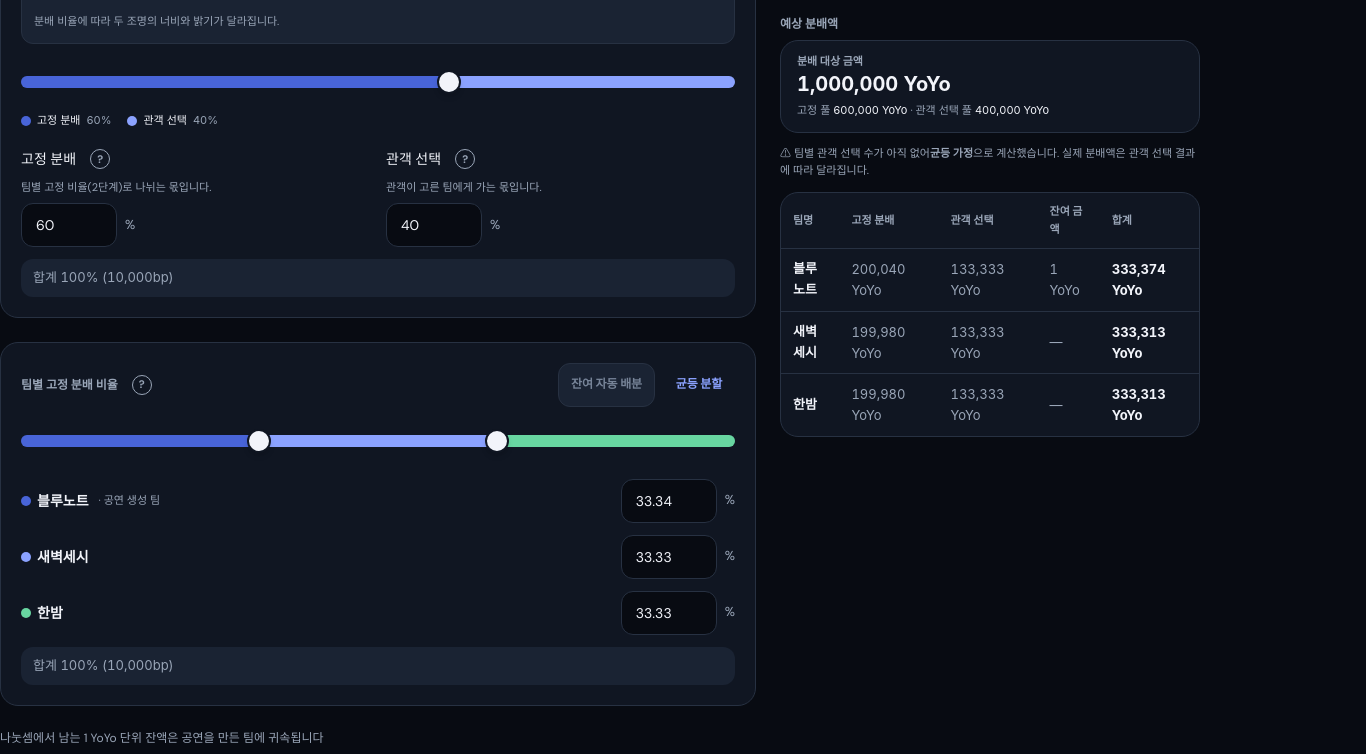
Test: P-05 도움말 모달 › 팀별 고정 분배 비율 설명 버튼이 예시 모달을 열고 Esc 로 닫으면 버튼으로 포커스가 돌아온다
The width and height of the screenshot is (1366, 754).
(page scrolled)
Click the button named "팀별 고정 분배 비율 설명" at coordinates (142, 385), box [120,363,164,407]
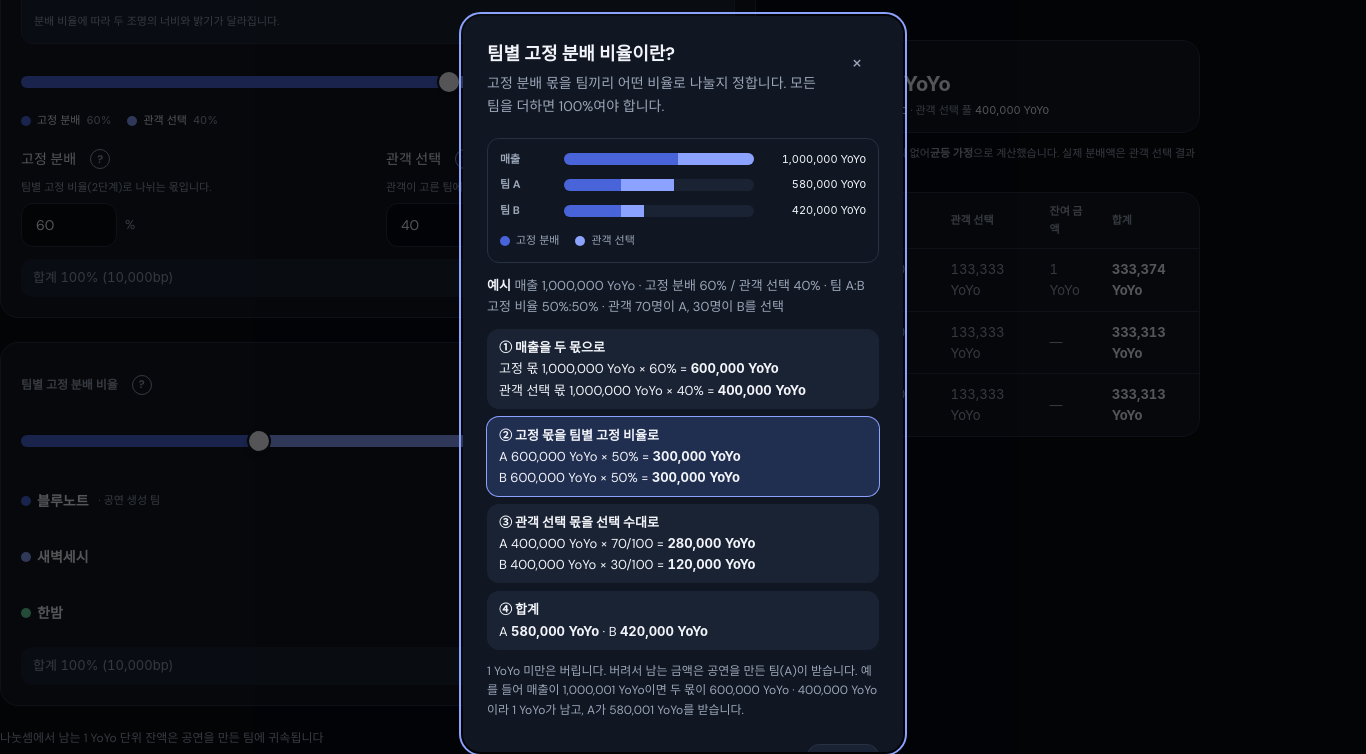
Check: the list item with test id "rule-help-step-1" shows "600,000 YoYo", box [691,360,779,376]
Check: the list item with test id "rule-help-step-1" shows "400,000 YoYo", box [718,382,806,398]
Check: the list item with test id "rule-help-step-2" shows "300,000 YoYo", box [653,448,741,464]
Press Escape
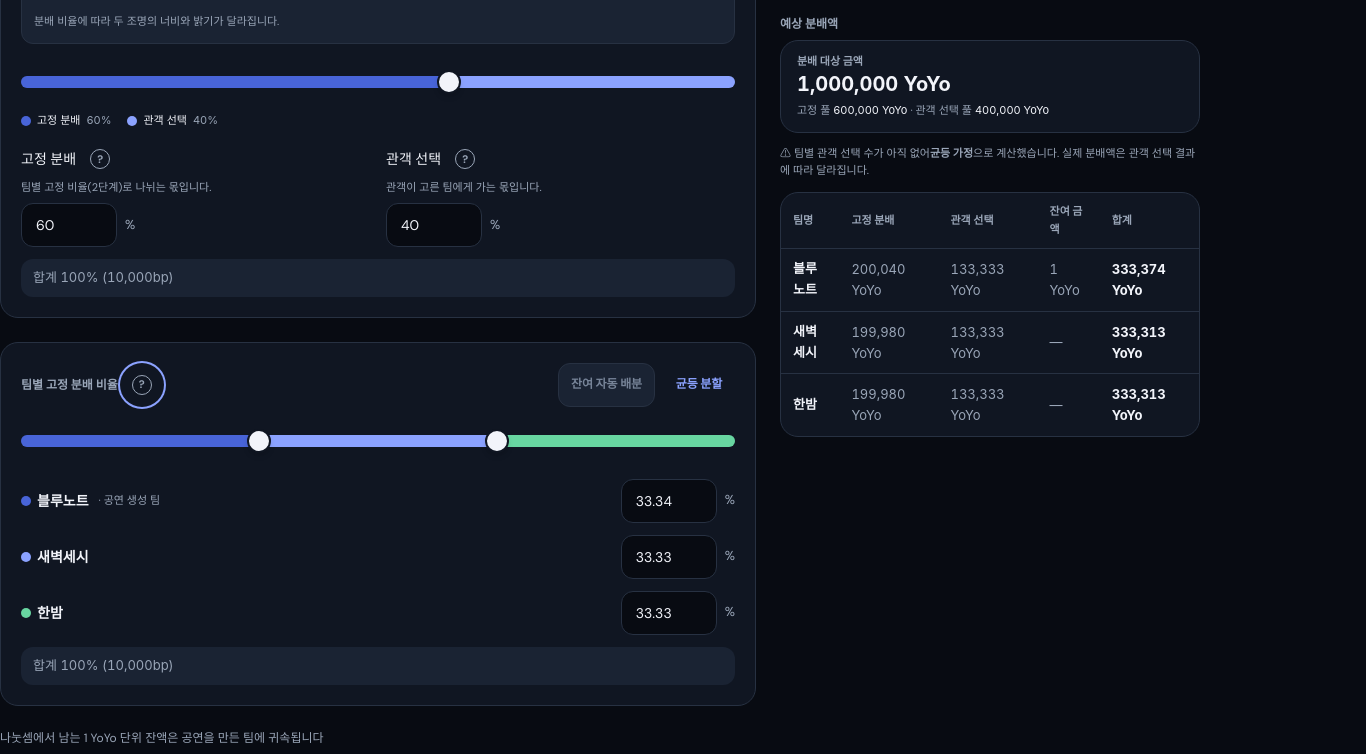
Check: the dialog is gone
